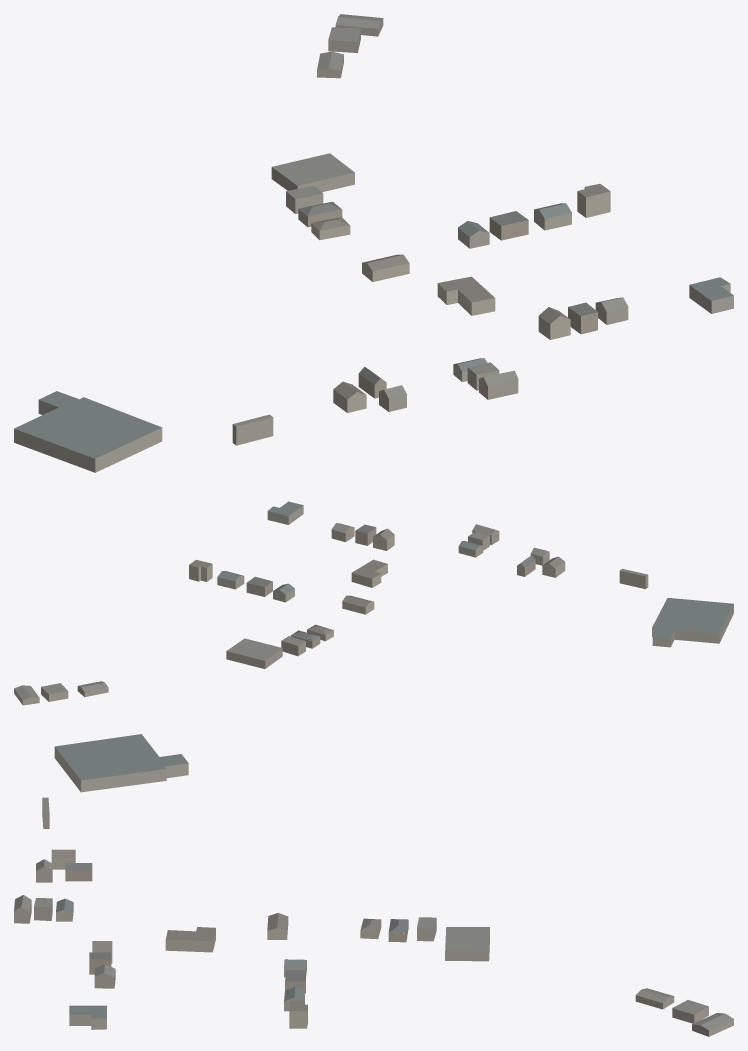
File: 29e7d0ff3baf-chunk-1196_11843.glb
The picture shows the model from 3 angles, top to bottom: view 1: azimuth 30°, elevation 25°; view 2: azimuth 150°, elevation 25°; view 3: azimuth 270°, elevation 25°; orthographic projection. The views are drawn at different scales.
Parts seen in each view (by area): view 1: building_56568, building_130432, building_165933, building_139153, building_150778, building_46130, building_75595, building_26812, building_96675, building_52498, building_71632, building_64066 (+6 smaller); view 2: building_56568, building_130432, building_165933, building_139153, building_46130, building_75595, building_150778, building_26812, building_75471, building_71632, building_82080, building_147138 (+5 smaller); view 3: building_56568, building_130432, building_165933, building_139153, building_82080, building_75471, building_58616, building_150778, building_46564, building_46130, building_61218.
Boxes of the visible parts, x1,y1,x2,y2 form: building_56568: (14,391,162,472); building_130432: (271,153,354,192); building_165933: (437,276,495,315); building_139153: (689,277,733,313); building_150778: (362,254,409,281); building_46130: (577,183,610,217); building_75595: (232,414,273,445); building_26812: (489,211,528,240); building_96675: (479,370,518,399); building_52498: (538,307,570,339); building_71632: (534,203,571,230); building_64066: (333,381,366,412); building_56568: (652,598,733,647); building_130432: (226,638,282,668); building_165933: (351,559,387,587); building_139153: (267,501,303,524); building_46130: (189,559,212,581); building_75595: (619,568,648,589); building_150778: (342,595,374,614); building_26812: (246,576,272,596); building_75471: (41,683,68,701); building_71632: (217,571,244,589); building_82080: (14,685,39,705); building_147138: (281,636,305,656); building_56568: (54,734,188,792); building_130432: (445,927,489,961); building_165933: (165,927,215,952); building_139153: (69,1005,106,1029); building_82080: (692,1013,733,1036); building_75471: (672,1000,708,1023); building_58616: (635,988,674,1009); building_150778: (267,913,288,939); building_46564: (65,863,92,881); building_46130: (289,1001,307,1028); building_61218: (94,964,115,988).
Bounding box in the file's own units: 296 × 8.94 × 310.
